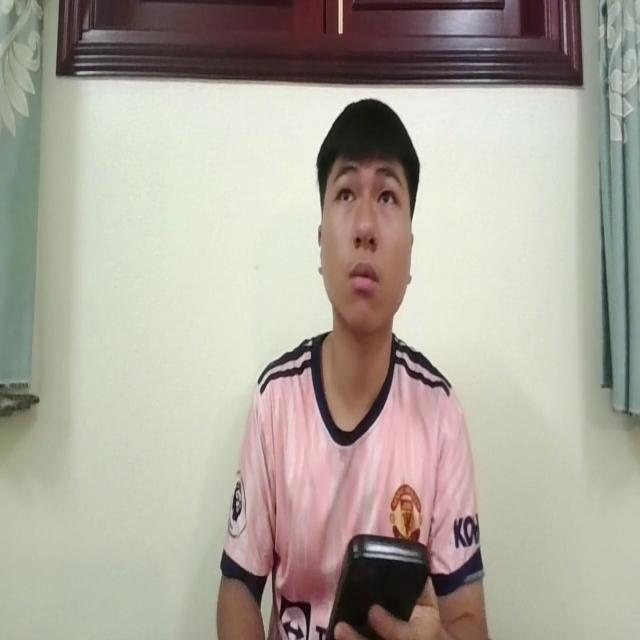book: (322, 528, 432, 640)
student: (217, 92, 488, 640)
